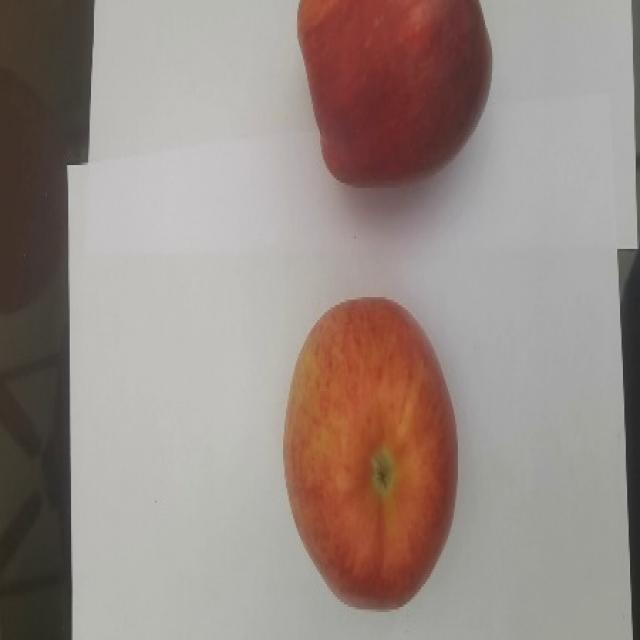Apple: (282, 295, 458, 611), (295, 0, 492, 188)
